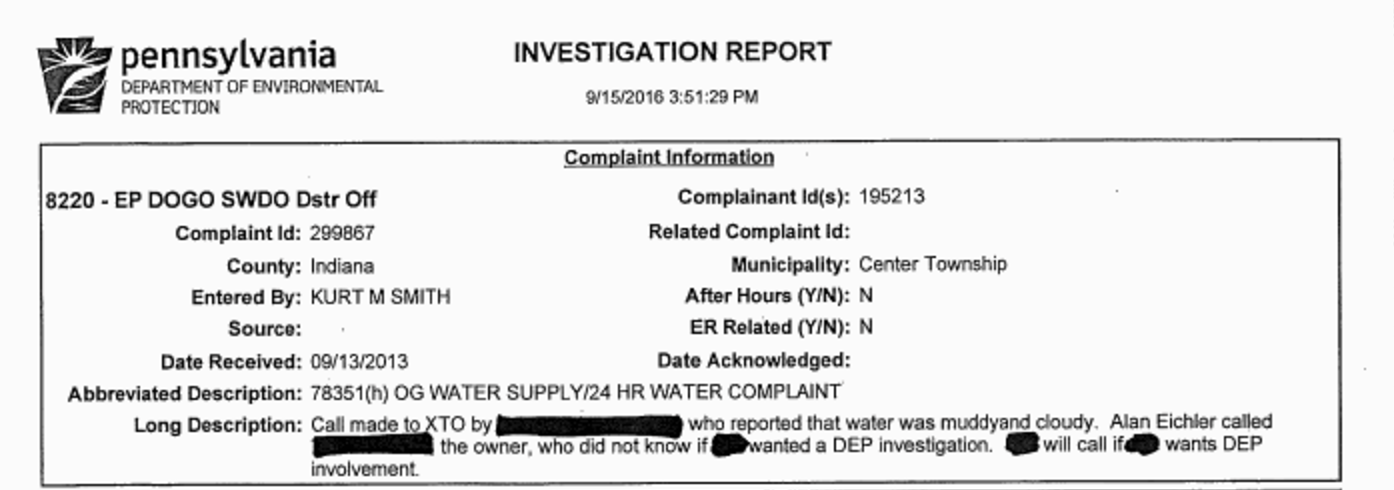fracking table: (36, 134, 1347, 485)
